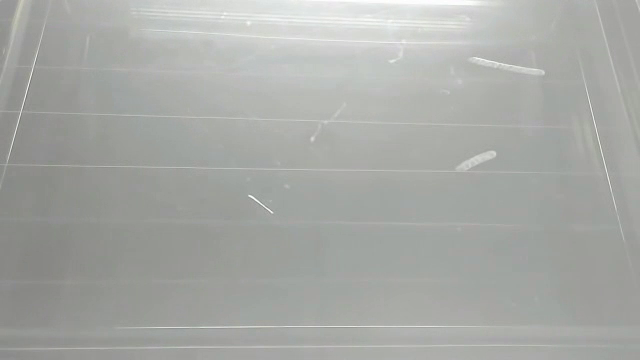alpha: (466, 53, 548, 81), (451, 149, 502, 176), (247, 192, 276, 218)
